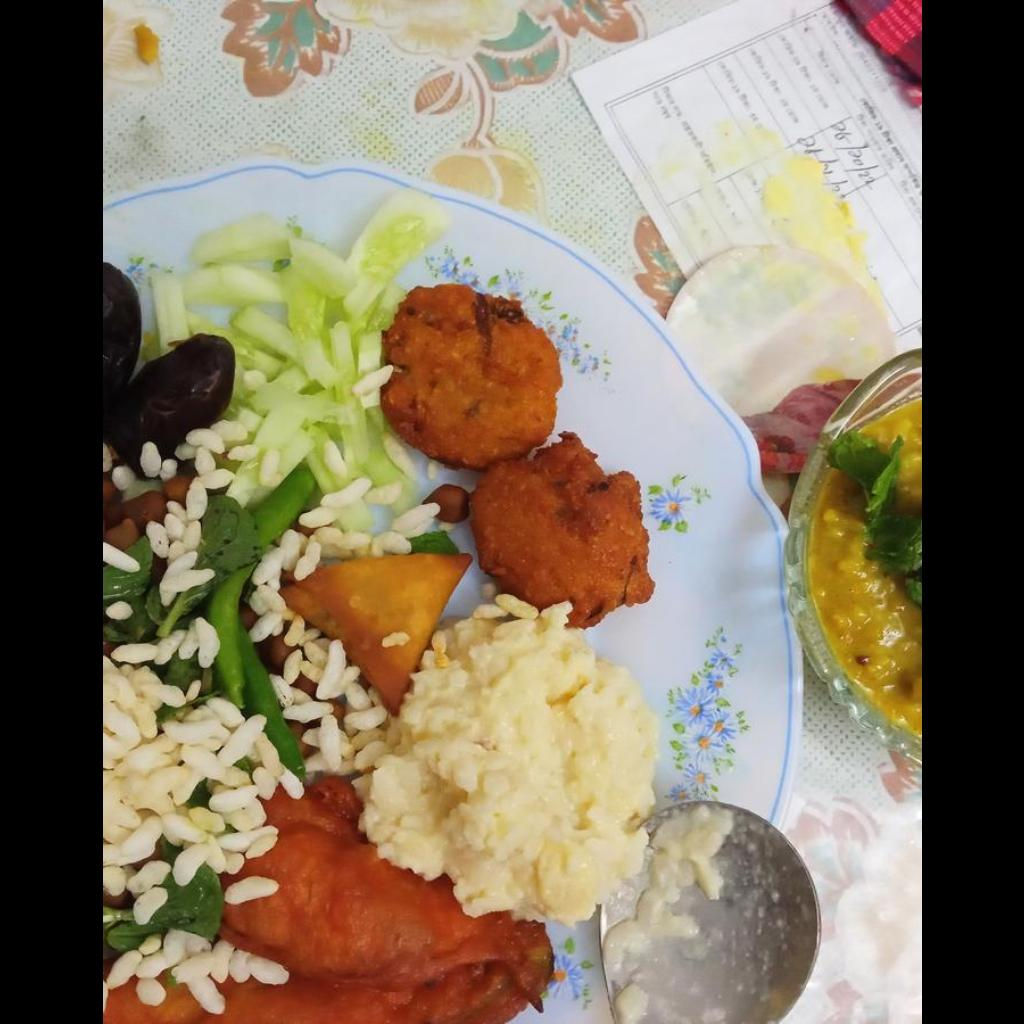beguni: (102, 776, 551, 1023)
cucumber: (153, 193, 440, 507)
daal: (806, 399, 920, 736)
dates: (102, 262, 233, 471)
payesh: (362, 627, 651, 927)
peyaju: (392, 292, 656, 620)
puffed-rice: (102, 655, 293, 909)
